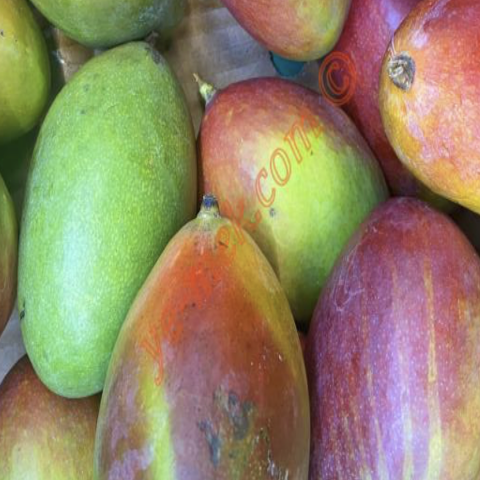mango: (14, 0, 200, 417), (83, 189, 324, 479), (180, 27, 392, 330), (292, 141, 480, 479)
